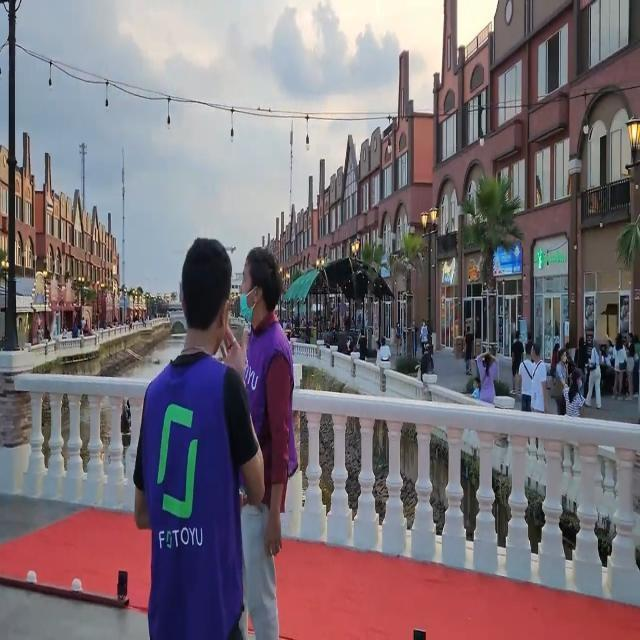hairnet: (240, 260, 270, 326)
